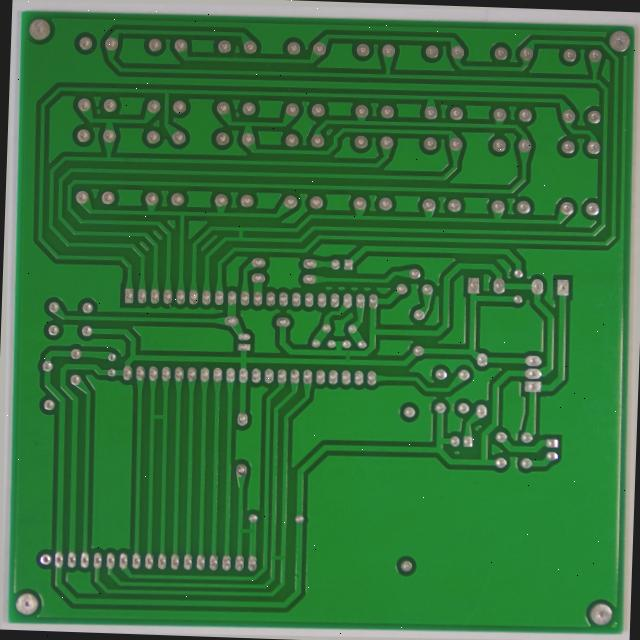short: (143, 406, 167, 424), (261, 552, 284, 567), (232, 220, 250, 239), (230, 523, 252, 538), (339, 350, 354, 368)
